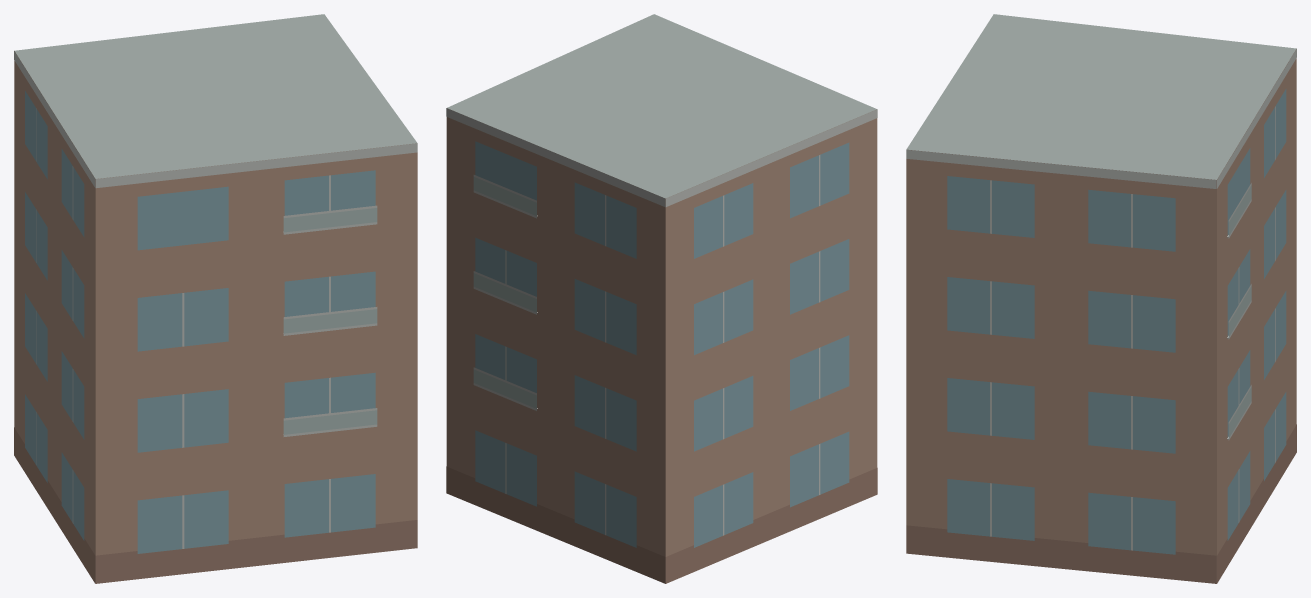
The model's file is survey-upis-32799753.glb.
3 renders of one model, left to right at view 1: azimuth 30°, elevation 25°; view 2: azimuth 150°, elevation 25°; view 3: azimuth 270°, elevation 25°, orthographic. The views are drawn at different scales.
Parts seen in each view (by area): view 1: survey-upis-32799753.tmp; view 2: survey-upis-32799753.tmp; view 3: survey-upis-32799753.tmp.
Part boxes in pixels (x1,y1,x2,y2): survey-upis-32799753.tmp: (14, 14, 417, 583); survey-upis-32799753.tmp: (446, 14, 877, 583); survey-upis-32799753.tmp: (906, 14, 1296, 583).
Bounding box in the file's own units: 9.39 × 10.65 × 9.34.
